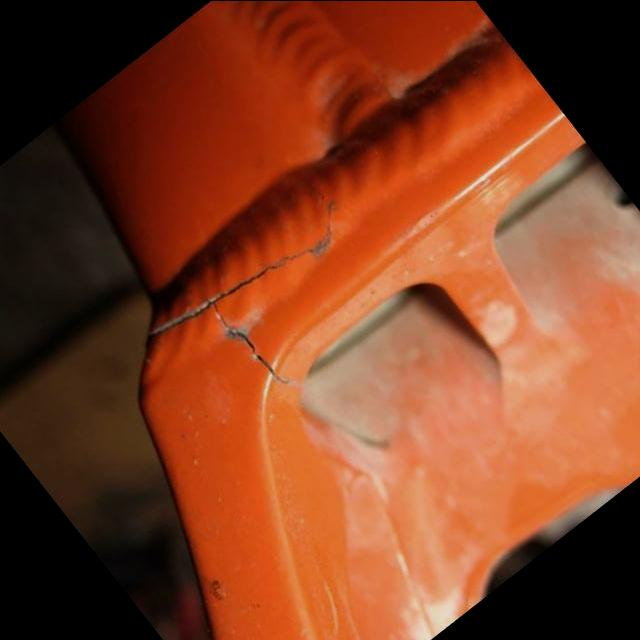defect: (145, 193, 363, 390)
